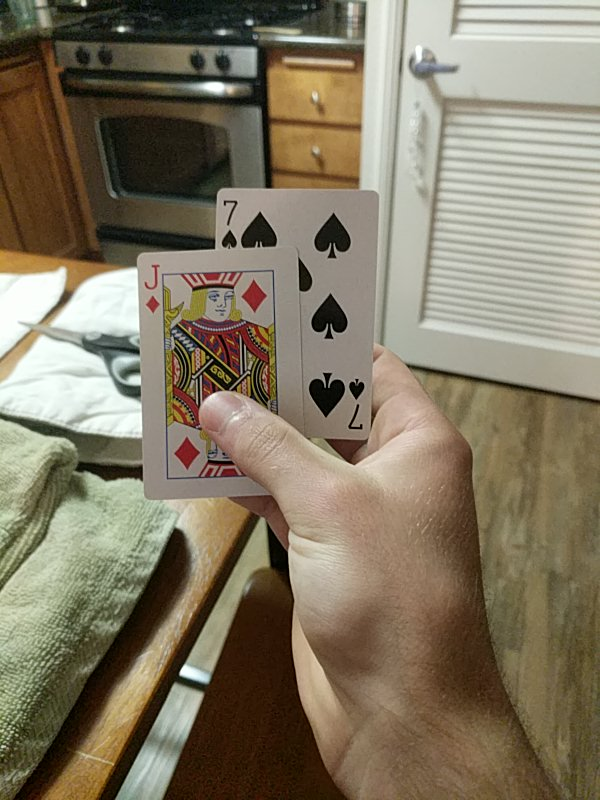Diamonds: (135, 250, 301, 500)
Spades: (213, 187, 372, 438)
